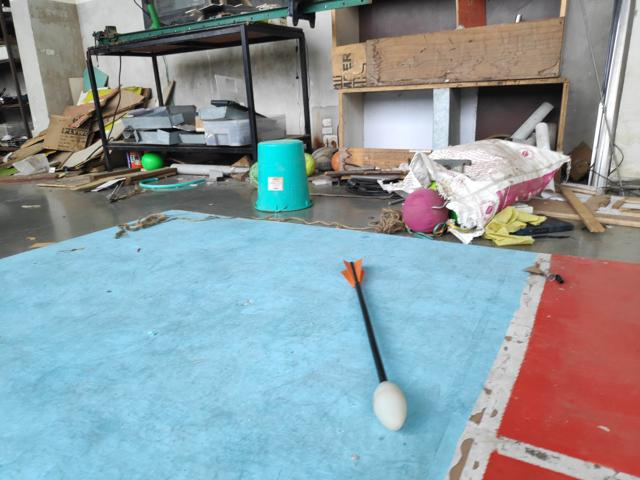Head: (370, 378, 409, 433)
Tail: (340, 258, 368, 288)
